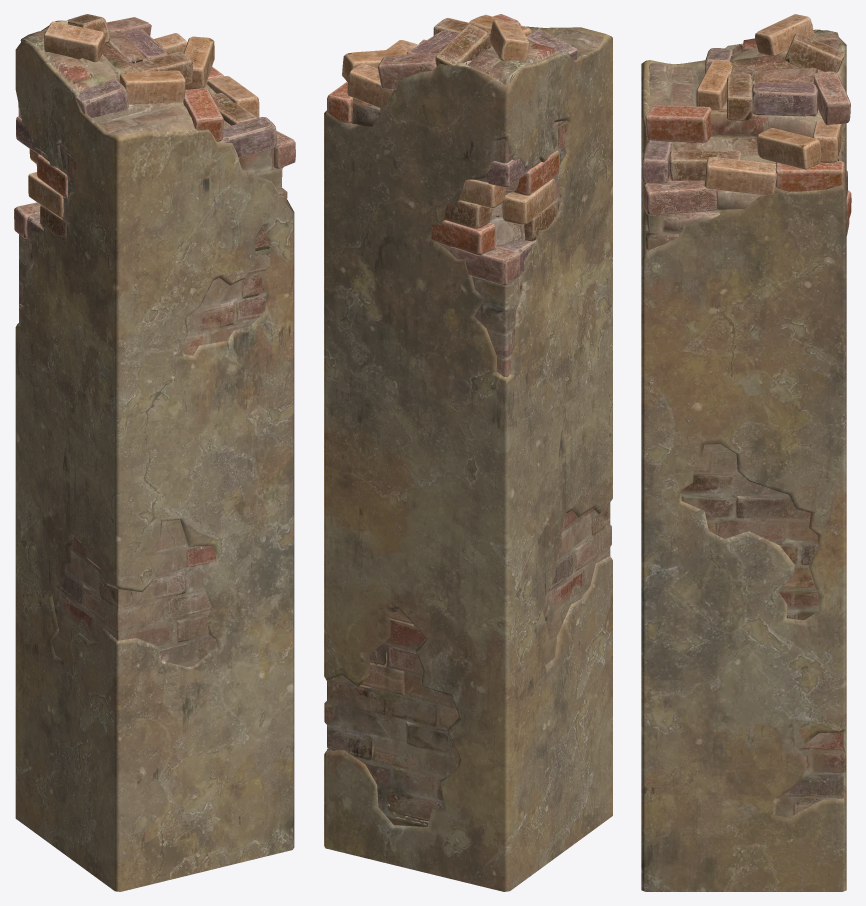
The picture shows the model from 3 angles, left to right: view 1: azimuth 30°, elevation 25°; view 2: azimuth 150°, elevation 25°; view 3: azimuth 270°, elevation 25°; orthographic projection. The views are drawn at different scales.
Parts seen in each view (by area): view 1: SM_Human_Ruins_Pillar_01_LOD0; view 2: SM_Human_Ruins_Pillar_01_LOD0; view 3: SM_Human_Ruins_Pillar_01_LOD0.
Part boxes in pixels (left/top/right/bottom): SM_Human_Ruins_Pillar_01_LOD0: left=14, top=14, right=295, bottom=891; SM_Human_Ruins_Pillar_01_LOD0: left=324, top=14, right=612, bottom=891; SM_Human_Ruins_Pillar_01_LOD0: left=641, top=14, right=851, bottom=891.
Size of the model in its own units: 1.03 by 4.29 by 1.02.
Materials: 3 (3 with a texture image).
